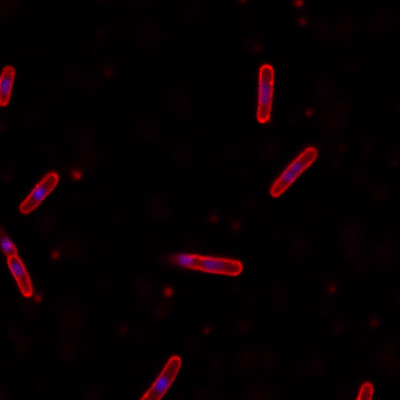Nalidixate: (269, 147, 320, 198), (140, 355, 182, 400), (18, 170, 59, 215), (255, 64, 275, 124), (1, 64, 16, 109)
Oblique: (162, 250, 244, 279), (1, 232, 34, 299)
Vesicle: (71, 168, 83, 181), (161, 287, 174, 299), (32, 295, 43, 305), (297, 17, 307, 27), (51, 250, 60, 260), (305, 107, 314, 117), (294, 1, 303, 8)
